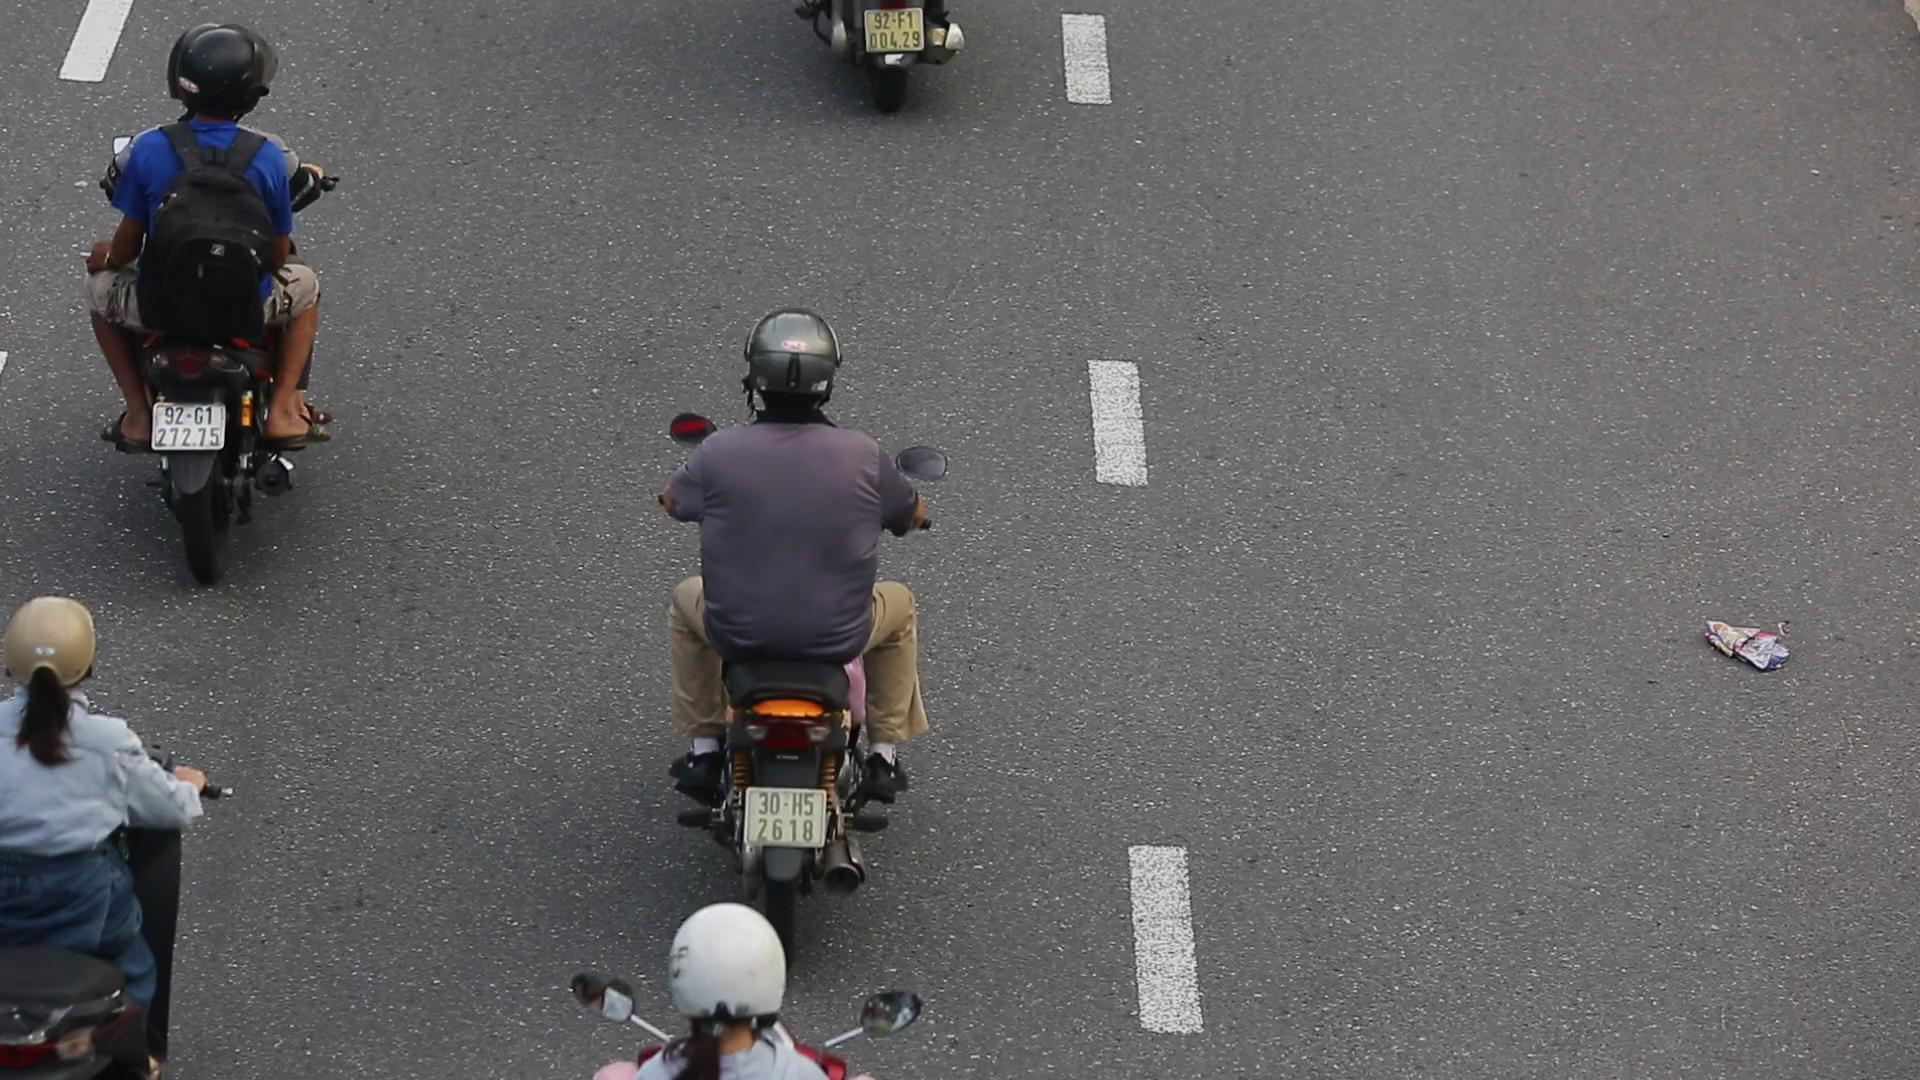motobike: (654, 290, 952, 910), (71, 9, 351, 597)
